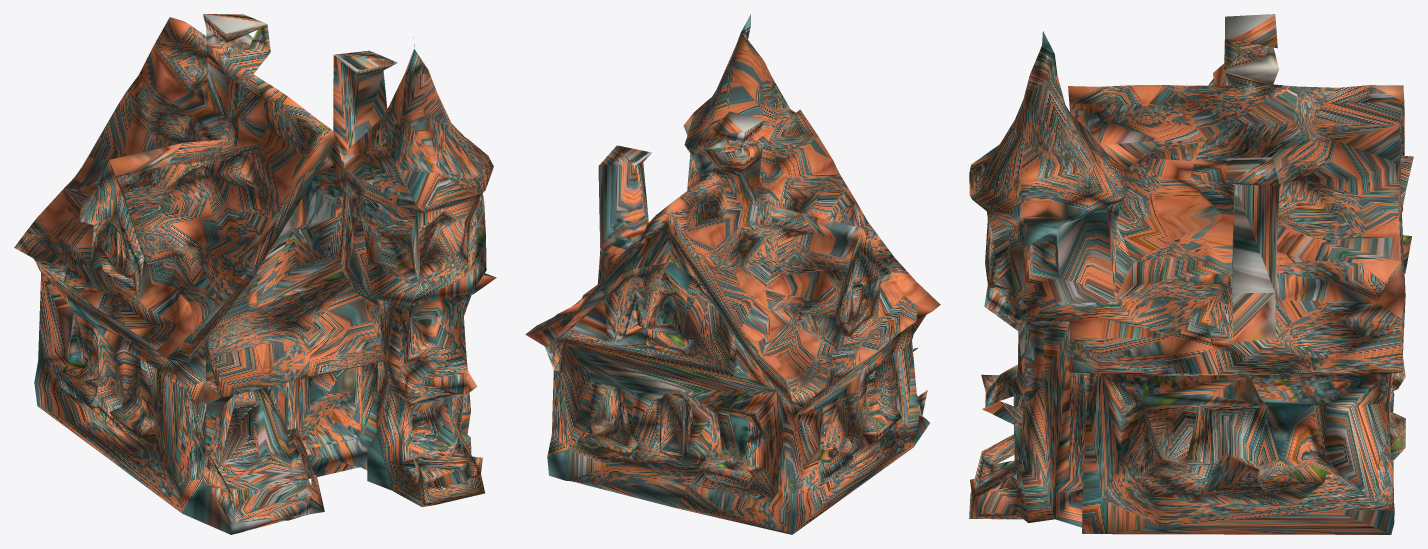
The model's file is Ember_Tiled_Turret_Ho.glb.
The picture shows the model from 3 angles, left to right: view 1: azimuth 30°, elevation 25°; view 2: azimuth 150°, elevation 25°; view 3: azimuth 270°, elevation 25°; orthographic projection. The views are drawn at different scales.
Visible parts, largest first — view 1: Ember_Tiled_Turret_Ho; view 2: Ember_Tiled_Turret_Ho; view 3: Ember_Tiled_Turret_Ho.
Part boxes in pixels (left/top/right/bottom): Ember_Tiled_Turret_Ho: left=14, top=14, right=496, bottom=534; Ember_Tiled_Turret_Ho: left=525, top=14, right=940, bottom=534; Ember_Tiled_Turret_Ho: left=969, top=14, right=1413, bottom=534.
Bounding box in the file's own units: 1.45 × 1.84 × 1.58.
1 material, 1 textured.
